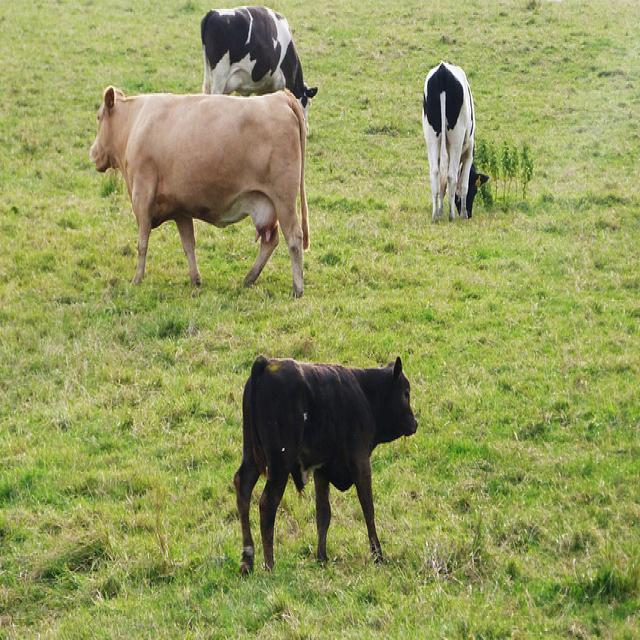cow: (89, 84, 311, 295), (231, 351, 416, 577), (196, 1, 317, 132), (419, 58, 488, 219)
